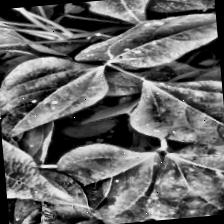Bean Rust: (0, 52, 108, 139), (128, 74, 224, 171), (72, 14, 220, 76), (2, 128, 87, 213), (142, 143, 224, 221)
